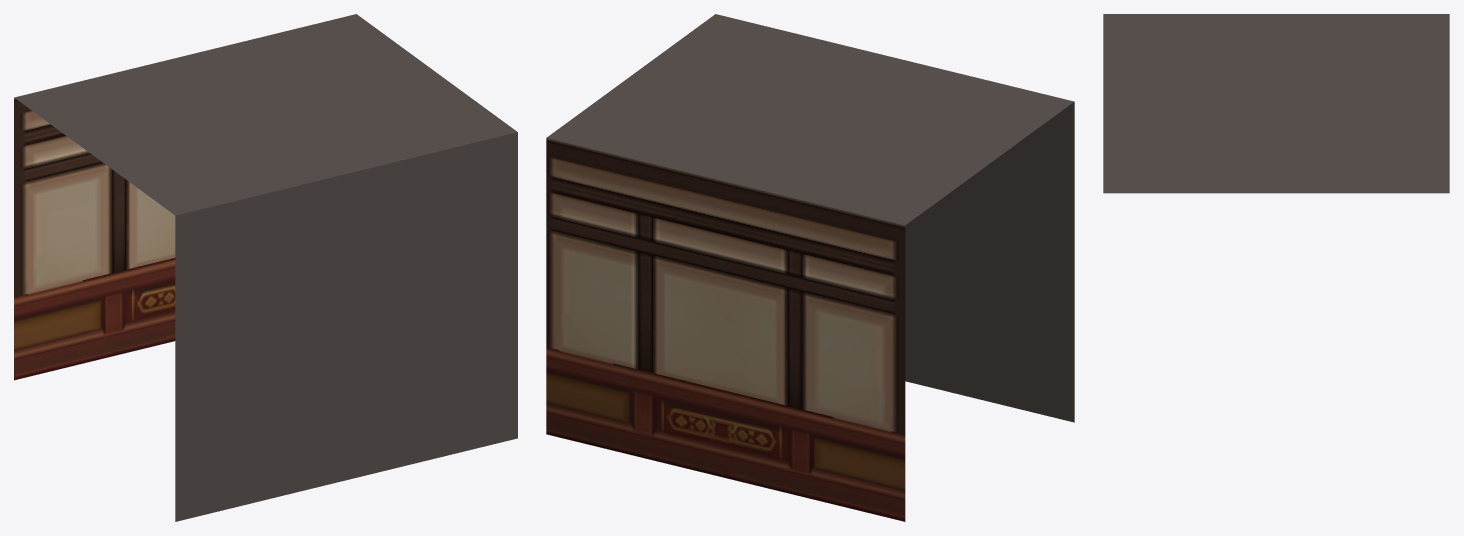
File: FB_Chengxiangfu_qiang01.FBX
The picture shows the model from 3 angles, left to right: view 1: azimuth 30°, elevation 25°; view 2: azimuth 150°, elevation 25°; view 3: azimuth 270°, elevation 25°; orthographic projection. The views are drawn at different scales.
Visible parts, largest first — view 1: Object12; view 2: Object12; view 3: Object12.
Part boxes in pixels (x1,y1,x2,y2): Object12: [14, 14, 517, 521]; Object12: [546, 14, 1074, 521]; Object12: [1103, 14, 1449, 193].
Size of the model in its own units: 7.48 by 6.39 by 6.11.
